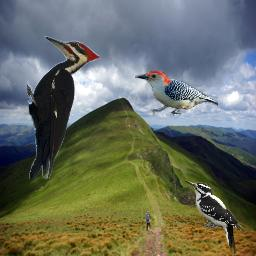Woodpecker: (27, 35, 103, 179), (184, 178, 243, 256), (135, 71, 218, 116)
